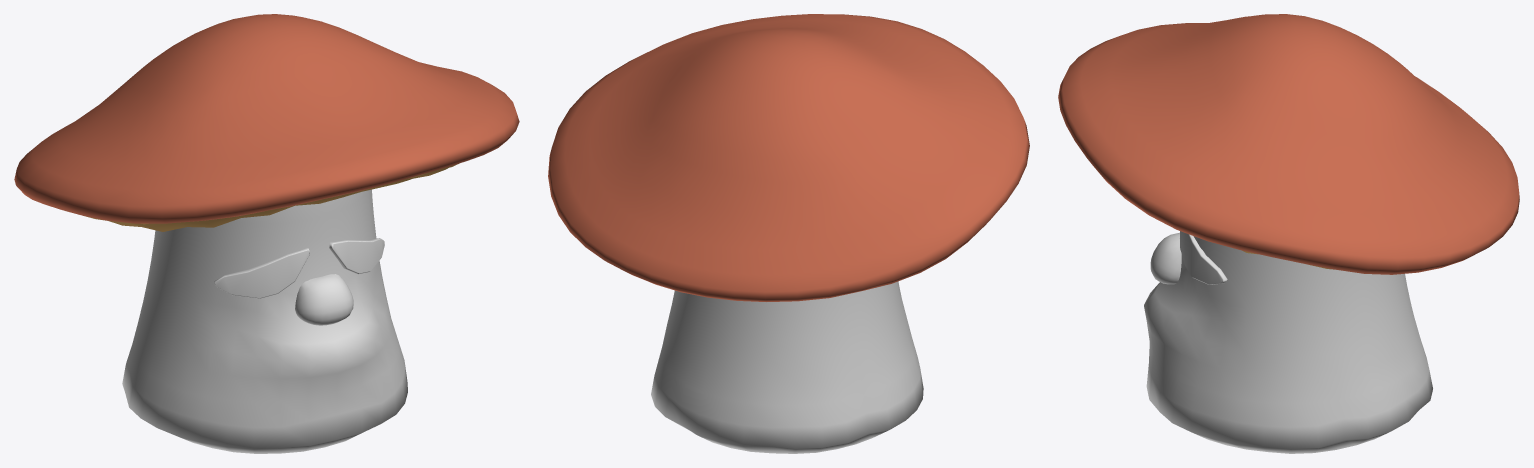
Rendered from SM_Mushroom01_low_02.fbx.
3 renders of one model, left to right at view 1: azimuth 30°, elevation 25°; view 2: azimuth 150°, elevation 25°; view 3: azimuth 270°, elevation 25°, orthographic. The views are drawn at different scales.
Parts seen in each view (by area): view 1: Hat_low, Stem_low, Eyebrow_low, Nose_low; view 2: Hat_low, Stem_low; view 3: Hat_low, Stem_low, Eyebrow_low, Nose_low.
Part boxes in pixels (<box>): Hat_low: <box>14,14,519,231</box>; Stem_low: <box>122,189,407,453</box>; Eyebrow_low: <box>214,238,384,298</box>; Nose_low: <box>295,274,353,325</box>; Hat_low: <box>548,14,1029,301</box>; Stem_low: <box>651,281,923,453</box>; Hat_low: <box>1058,14,1519,274</box>; Stem_low: <box>1144,236,1432,453</box>; Eyebrow_low: <box>1180,231,1227,284</box>; Nose_low: <box>1150,232,1181,284</box>.
Bounding box in the file's own units: 482 × 401 × 441.
